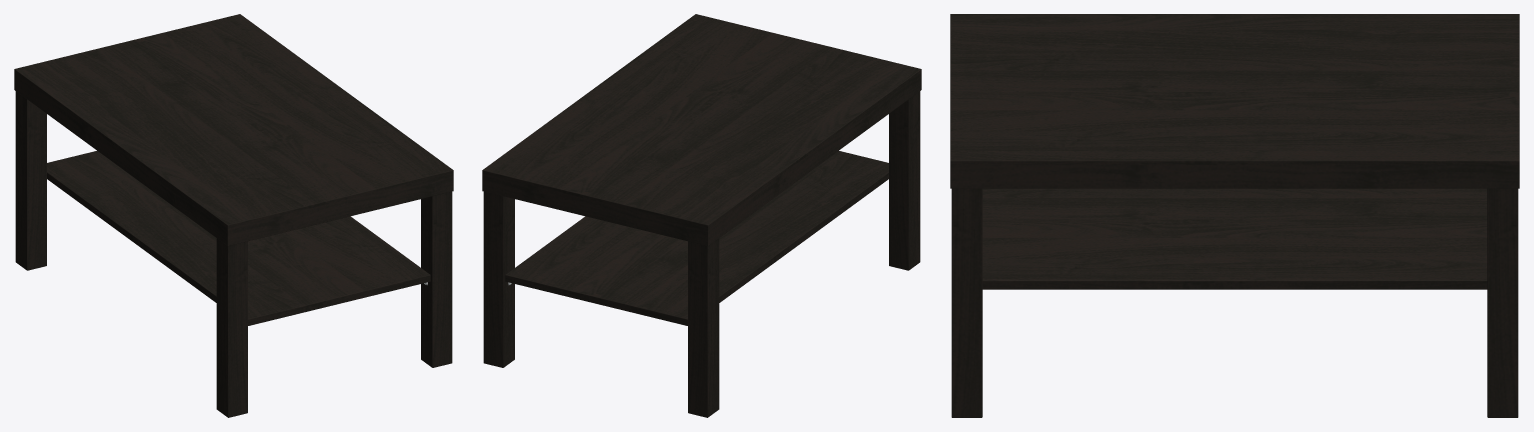
The picture shows the model from 3 angles, left to right: view 1: azimuth 30°, elevation 25°; view 2: azimuth 150°, elevation 25°; view 3: azimuth 270°, elevation 25°; orthographic projection. The views are drawn at different scales.
Visible parts, largest first — view 1: world; view 2: world; view 3: world.
Boxes of the visible parts, bbox=[...] form: world: bbox=[14, 14, 453, 417]; world: bbox=[482, 14, 921, 417]; world: bbox=[950, 14, 1519, 417].
Size of the model in its own units: 0.55 by 0.45 by 0.9.
1 material, 1 textured.
